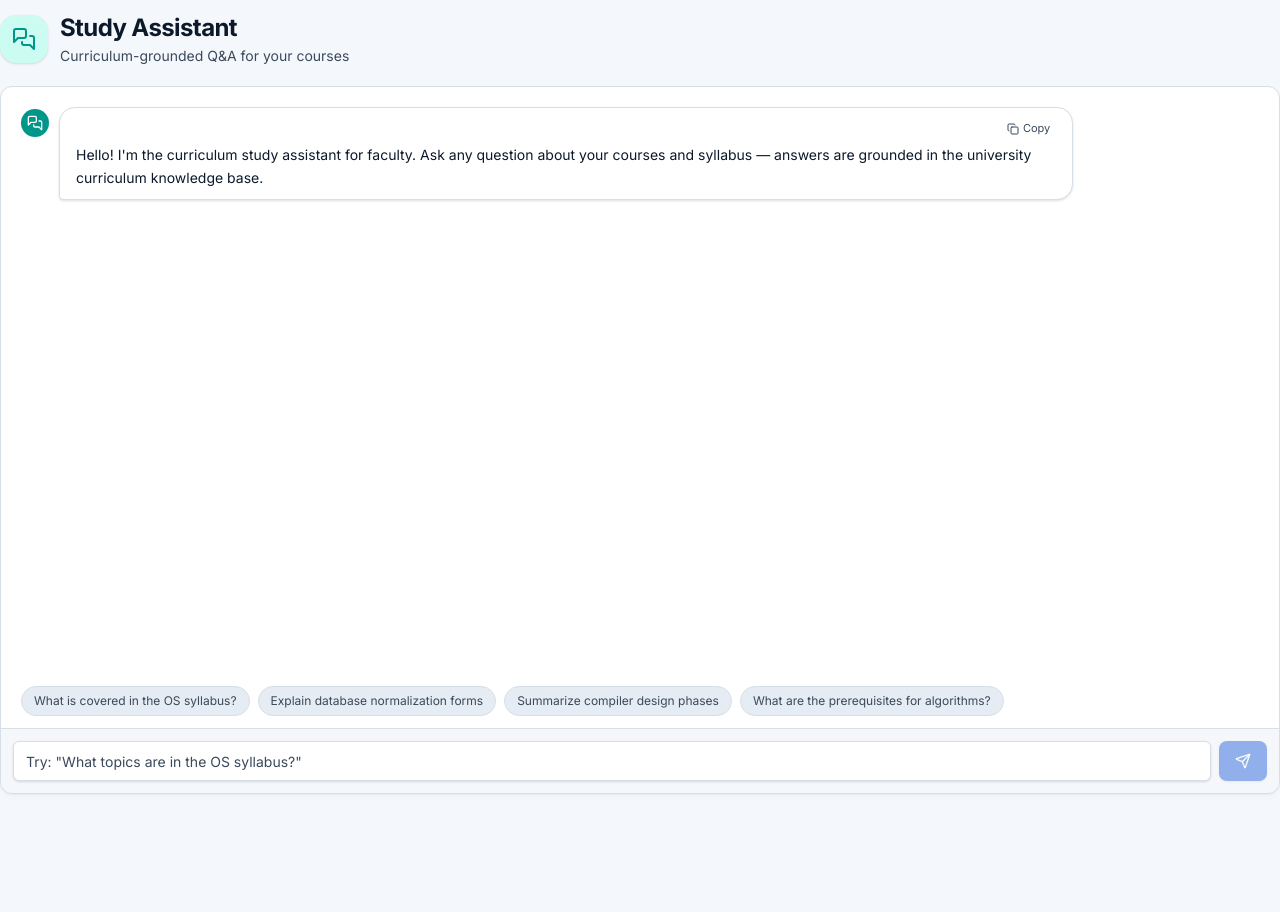
Test: FacultyStudyAssist › streams an answer when a suggestion is clicked
Click the button "What is covered in the OS syllabus?": point(135, 701) 21,686 -> 250,716
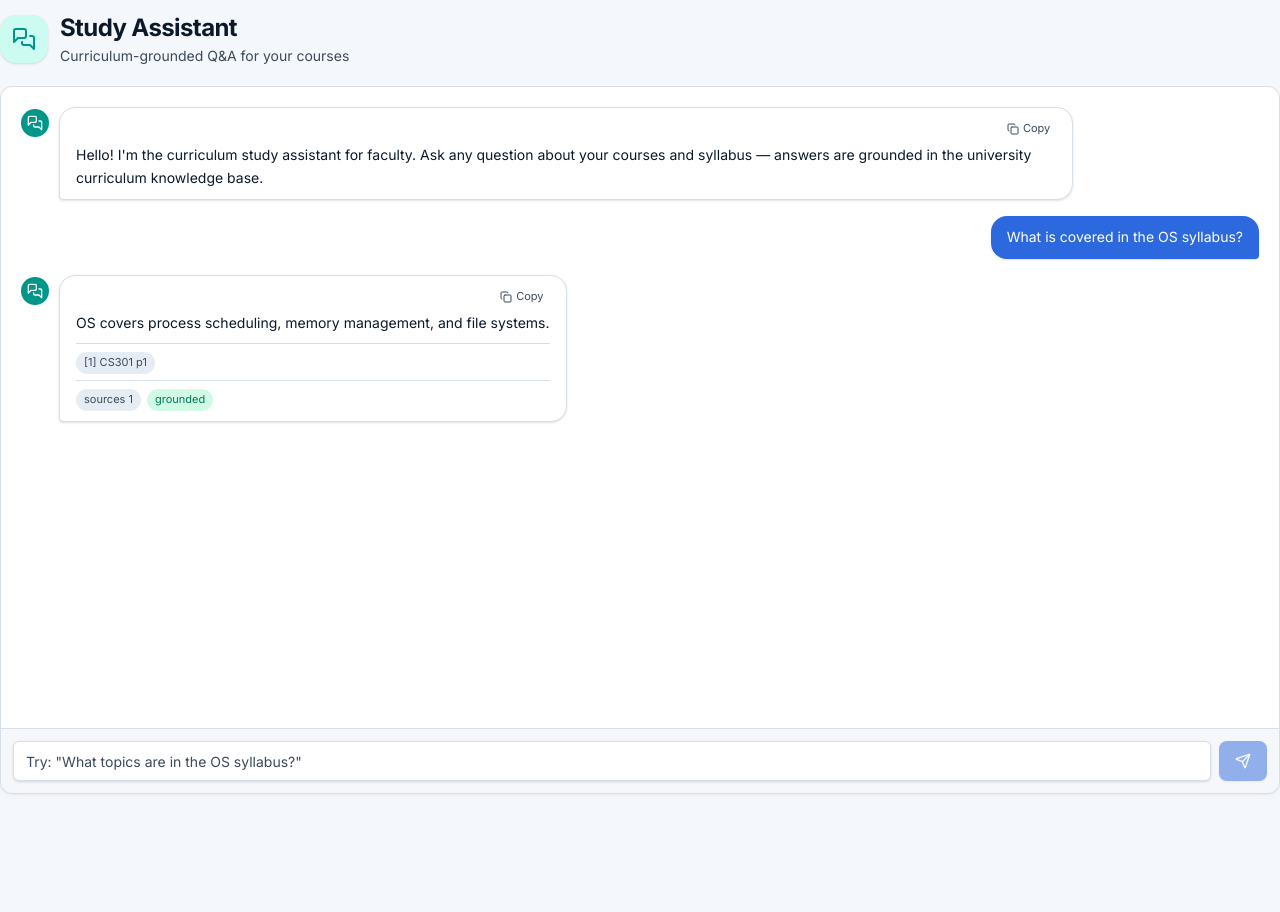
Now the text "process scheduling" is shown, box 76,314 -> 550,331
